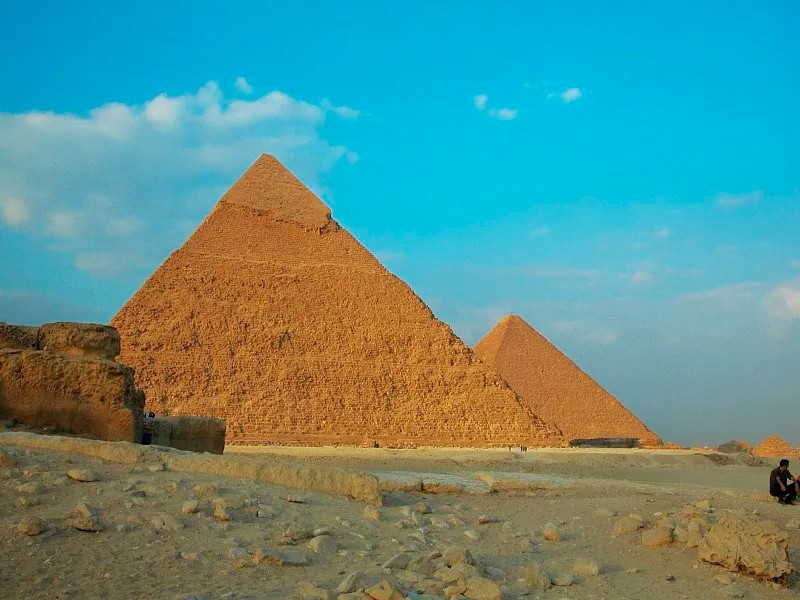Pyramid: (106, 153, 573, 450), (475, 314, 665, 448)
